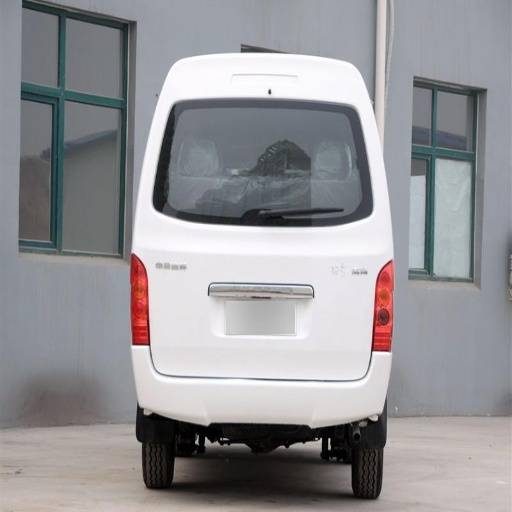back_bumper: (130, 347, 392, 433)
back_glass: (156, 97, 361, 225)
trunk: (145, 224, 390, 380)
